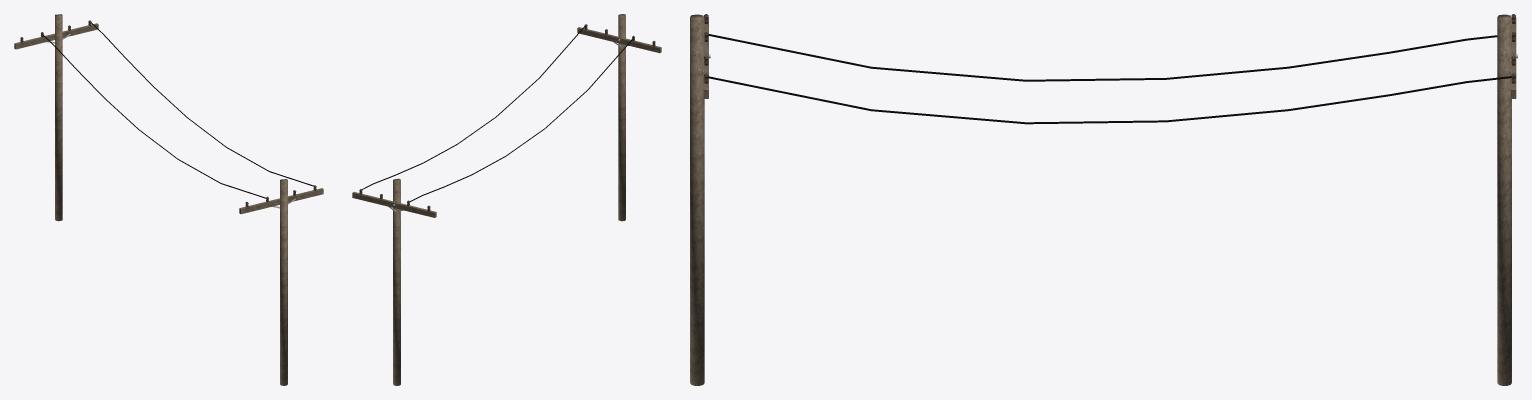
The model's file is Cableado.fbx.
The picture shows the model from 3 angles, left to right: view 1: azimuth 30°, elevation 25°; view 2: azimuth 150°, elevation 25°; view 3: azimuth 270°, elevation 25°; orthographic projection. The views are drawn at different scales.
Parts seen in each view (by area): view 1: WoodPole_WoodPole_0.005; view 2: WoodPole_WoodPole_0.005; view 3: WoodPole_WoodPole_0.005.
Part boxes in pixels (x1,y1,x2,y2): WoodPole_WoodPole_0.005: (14,14,323,385); WoodPole_WoodPole_0.005: (352,14,661,385); WoodPole_WoodPole_0.005: (690,14,1517,385).
Bounding box in the file's own units: 65.72 × 317 × 155.
2 materials, 1 textured.
